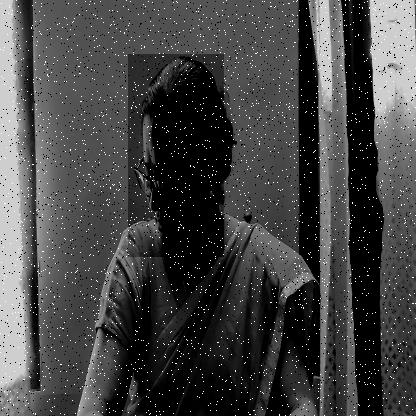Distracted: (128, 54, 224, 257)
